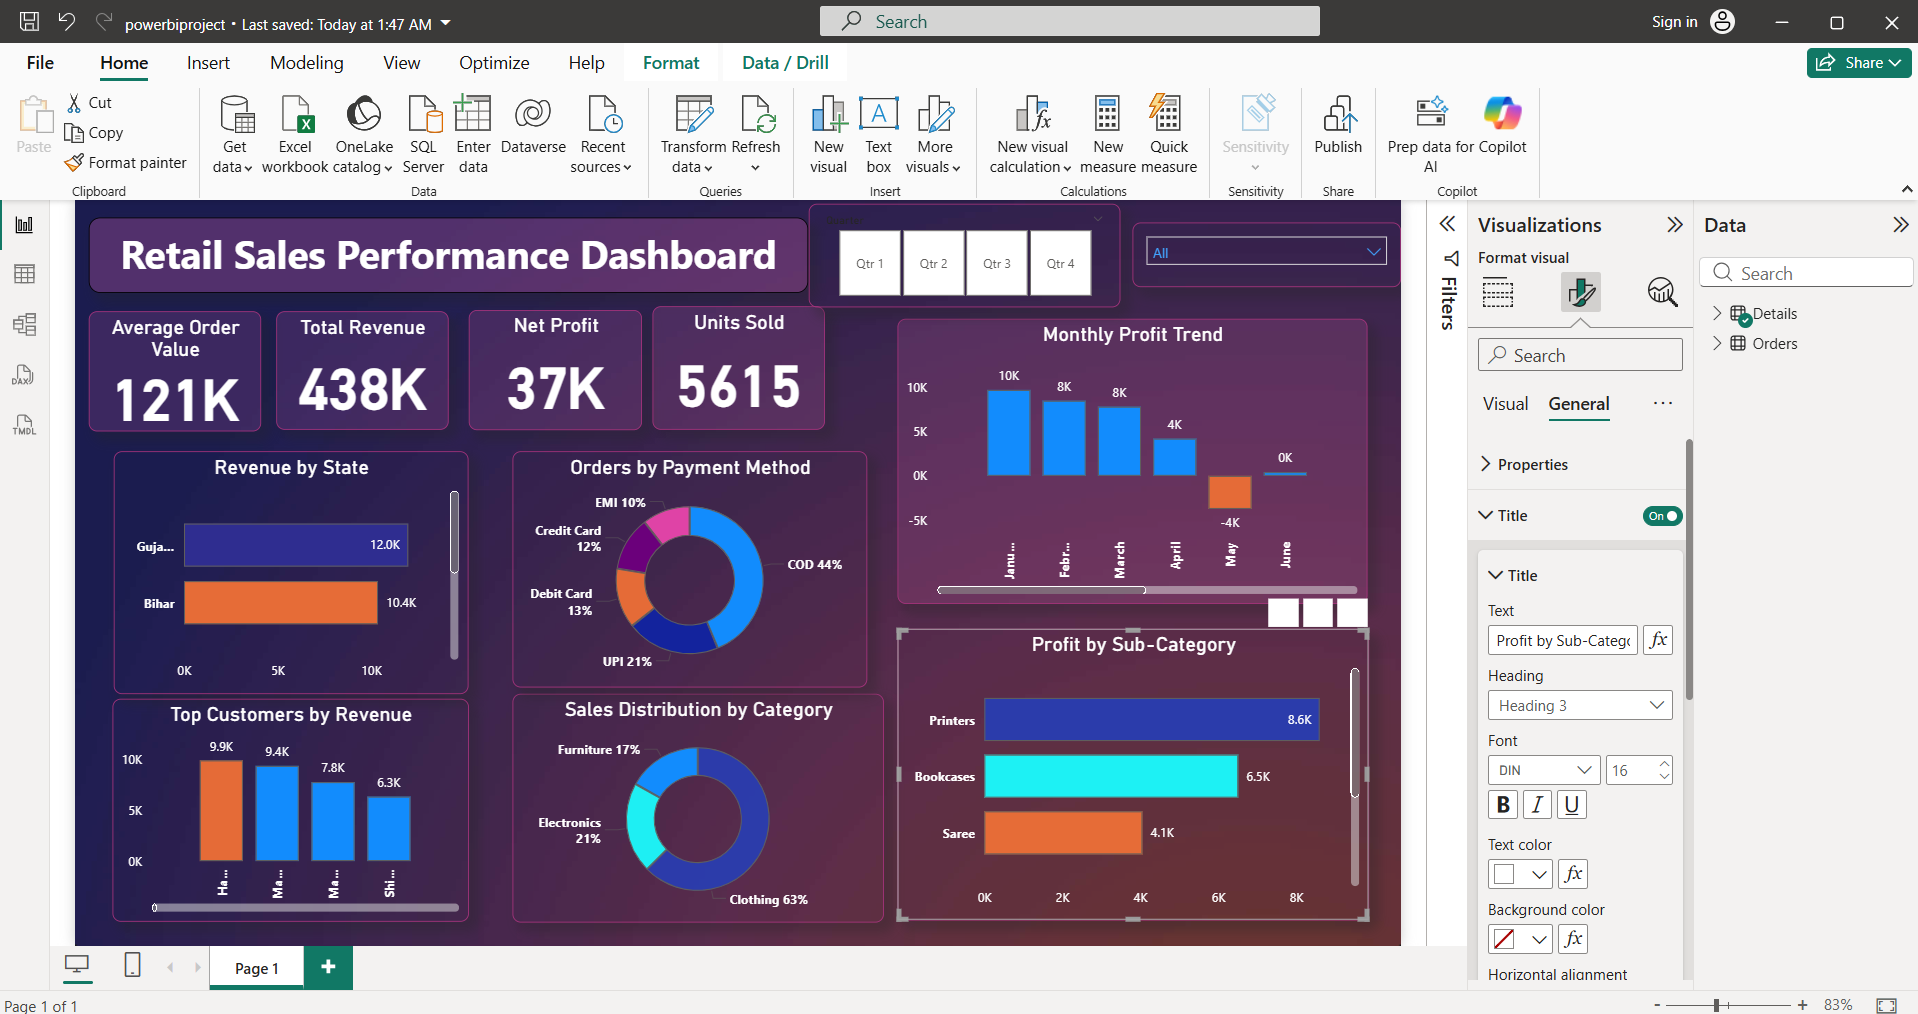

The dashboard page shown, as its layout file describes it:
{"tool":"powerbi","page":{"name":"Page 1","canvas":[1280,720],"ordinal":0},"visuals":[{"type":"textbox","box":[12.9,17.2,694.7,73.1],"z":0},{"type":"columnChart","title":"Monthly Profit Trend","fields":{"Y":["Sum(Details.Profit)"],"Category":["Orders.Order Date.Variation.Date Hierarchy.Month"]},"box":[793.7,114.5,453.3,275.2],"z":1000},{"type":"barChart","title":"Profit by Sub-Category","fields":{"Category":["Details.Sub-Category"],"Y":["Sum(Details.Profit)"]},"box":[793.7,413.6,454.9,281.5],"z":2000},{"type":"donutChart","title":"Sales Distribution by Category","fields":{"Category":["Details.Category"],"Y":["Sum(Details.Quantity)"]},"box":[422.6,477,358.1,220.6],"z":3000},{"type":"donutChart","title":"Orders by Payment Method","fields":{"Category":["Details.PaymentMode"],"Y":["Sum(Details.Quantity)"]},"box":[422.6,242.1,342.3,227.8],"z":4000},{"type":"card","title":"Total Revenue","fields":{"Values":["Sum(Details.Amount)"]},"box":[194.8,107.4,166.2,114.6],"z":5000},{"type":"card","title":"Net Profit","fields":{"Values":["Sum(Details.Profit)"]},"box":[379.6,106,167.6,116],"z":6000},{"type":"card","title":"Units Sold","fields":{"Values":["Sum(Details.Quantity)"]},"box":[557.2,103.1,166.2,118.9],"z":7000},{"type":"card","title":"Average Order Value","fields":{"Values":["Sum(Details.AOV)"]},"box":[12.9,107.4,166.2,116],"z":8000},{"type":"barChart","title":"Revenue by State","fields":{"Category":["Orders.State"],"Y":["Sum(Details.Amount)"]},"box":[37.8,241.9,342,234.3],"z":9000},{"type":"columnChart","title":"Top Customers by Revenue","fields":{"Category":["Orders.CustomerName"],"Y":["Sum(Details.Amount)"]},"box":[35.8,481.3,343.8,214.9],"z":10000},{"type":"slicer","fields":{"Values":["Orders.Order Date.Variation.Date Hierarchy.Quarter"]},"box":[707.8,3.2,300.6,100.2],"z":11000},{"type":"slicer","fields":{"Values":["Orders.State"]},"box":[1021.2,22.3,259.3,62],"z":12000}]}

Visuals, with their boxes on the page's 1280x720 design canvas (x1, y1, x2, y2). These are canvas units, not pixel positions in the 1918x1014 screenshot, which may show the page scaled, cropped or inside an application window:
textbox: [13,17,708,90]
"Monthly Profit Trend" columnChart: [794,114,1247,390]
"Profit by Sub-Category" barChart: [794,414,1249,695]
"Sales Distribution by Category" donutChart: [423,477,781,698]
"Orders by Payment Method" donutChart: [423,242,765,470]
"Total Revenue" card: [195,107,361,222]
"Net Profit" card: [380,106,547,222]
"Units Sold" card: [557,103,723,222]
"Average Order Value" card: [13,107,179,223]
"Revenue by State" barChart: [38,242,380,476]
"Top Customers by Revenue" columnChart: [36,481,380,696]
slicer - Orders.Order Date.Variation.Date Hierarchy.Quarter: [708,3,1008,103]
slicer - Orders.State: [1021,22,1280,84]
